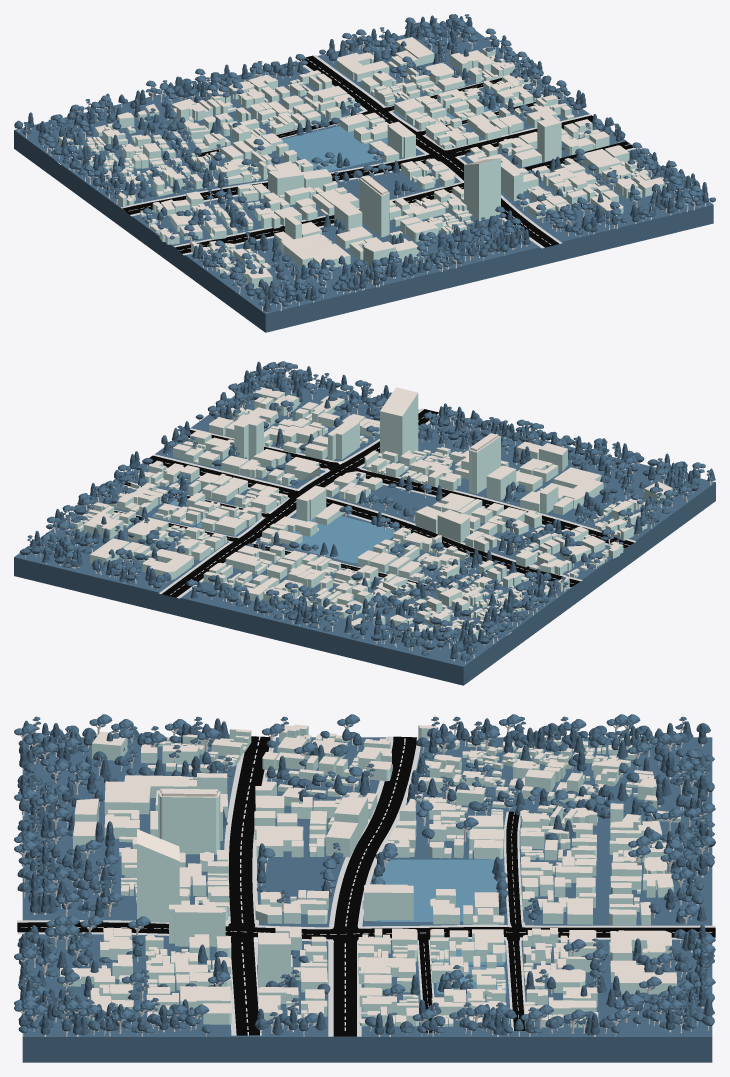
The model's file is city_first.glb.
3 renders of one model, top to bottom at view 1: azimuth 30°, elevation 25°; view 2: azimuth 150°, elevation 25°; view 3: azimuth 270°, elevation 25°, orthographic. The views are drawn at different scales.
Visible parts, largest first — view 1: map_2.osm_buildings, Cube.002, Cube.001, Plane.002, map_2.osm_areas_pedestrian.001; view 2: map_2.osm_buildings, Cube.002, Cube.001, Plane.002, map_2.osm_areas_pedestrian.001; view 3: map_2.osm_buildings, Cube.002, Plane.002, Cube.001, map_2.osm_areas_pedestrian.001.
Boxes of the visible parts, x1,y1,x2,y2 form: map_2.osm_buildings: (58, 37, 668, 289); Cube.002: (14, 25, 712, 313); Cube.001: (14, 130, 713, 332); Plane.002: (121, 55, 636, 255); map_2.osm_areas_pedestrian.001: (282, 126, 388, 171); map_2.osm_buildings: (70, 387, 672, 639); Cube.002: (14, 377, 715, 666); Cube.001: (14, 482, 715, 685); Plane.002: (91, 408, 636, 598); map_2.osm_areas_pedestrian.001: (288, 516, 396, 563); map_2.osm_buildings: (60, 724, 680, 1027); Cube.002: (22, 737, 712, 1036); Plane.002: (17, 736, 715, 1036); Cube.001: (22, 1037, 712, 1062); map_2.osm_areas_pedestrian.001: (377, 859, 498, 921).
Size of the model in its own units: 4.57 by 0.7337 by 4.46.
